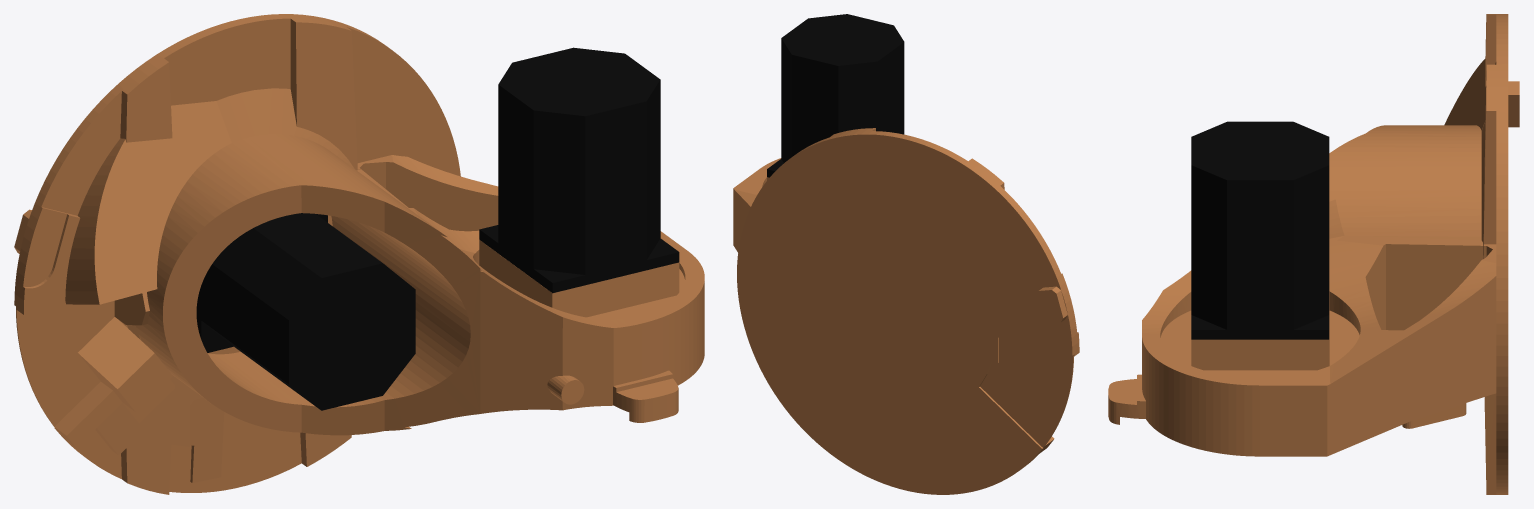
The picture shows the model from 3 angles, left to right: view 1: azimuth 30°, elevation 25°; view 2: azimuth 150°, elevation 25°; view 3: azimuth 270°, elevation 25°; orthographic projection. The views are drawn at different scales.
Parts seen in each view (by area): view 1: /Link_1/Link_1_001-mesh/0, /Link_1_Motor2/Link_1_Motor2_001-mesh/0, /Link_1_Motor1/Link_1_Motor1_001-mesh/0; view 2: /Link_1/Link_1_001-mesh/0, /Link_1_Motor2/Link_1_Motor2_001-mesh/0; view 3: /Link_1/Link_1_001-mesh/0, /Link_1_Motor2/Link_1_Motor2_001-mesh/0.
Boxes of the visible parts, x1,y1,x2,y2 form: /Link_1/Link_1_001-mesh/0: (14, 14, 704, 494); /Link_1_Motor2/Link_1_Motor2_001-mesh/0: (479, 47, 679, 293); /Link_1_Motor1/Link_1_Motor1_001-mesh/0: (196, 213, 415, 410); /Link_1/Link_1_001-mesh/0: (733, 128, 1079, 494); /Link_1_Motor2/Link_1_Motor2_001-mesh/0: (767, 14, 904, 177); /Link_1/Link_1_001-mesh/0: (1108, 14, 1519, 494); /Link_1_Motor2/Link_1_Motor2_001-mesh/0: (1191, 121, 1329, 339).
Size of the model in its own units: 0.663 by 0.5398 by 0.4619.
